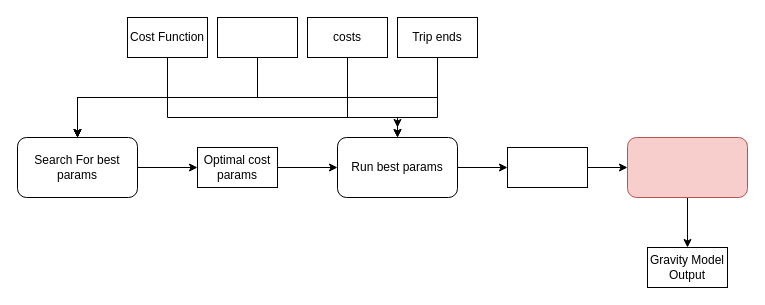
The diagram is 765 pixels wide and 305 high, and some of its shapes have lost their labels. The box of each missing label's shape, as (x1, y1, x2, y2) in pixels:
Apply K Factors: (626, 136, 748, 198)
Best Performance: (506, 146, 588, 188)
Init cost params: (216, 16, 298, 58)
